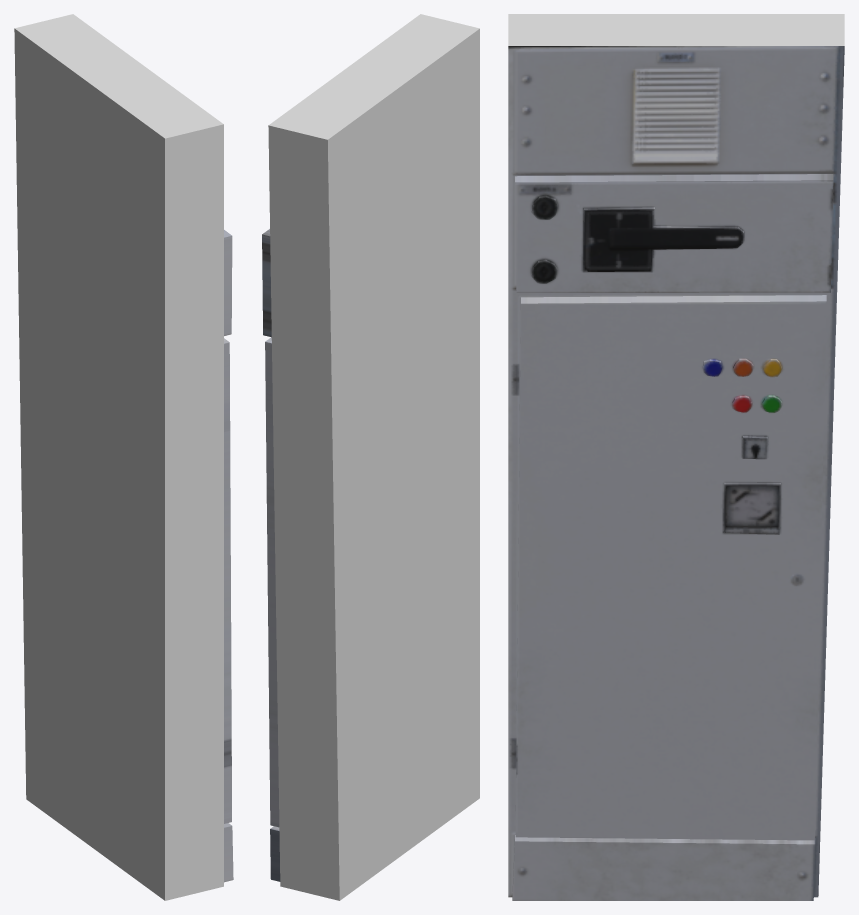
The model's file is panel5_1.fbx.
3 renders of one model, left to right at view 1: azimuth 30°, elevation 25°; view 2: azimuth 150°, elevation 25°; view 3: azimuth 270°, elevation 25°, orthographic. The views are drawn at different scales.
Parts seen in each view (by area): view 1: panel5; view 2: panel5; view 3: panel5.
Boxes of the visible parts, box(x1,y1,x2,y2) form: panel5: box(14, 14, 233, 900); panel5: box(262, 14, 479, 900); panel5: box(508, 14, 844, 900).
Bounding box in the file's own units: 128 × 1273 × 456.
Materials: 2 (1 with a texture image).
